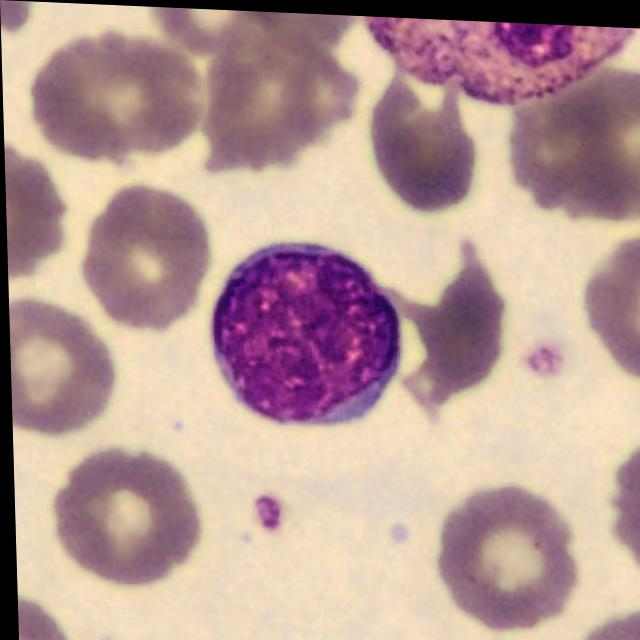Linfocito: (209, 240, 400, 421)
